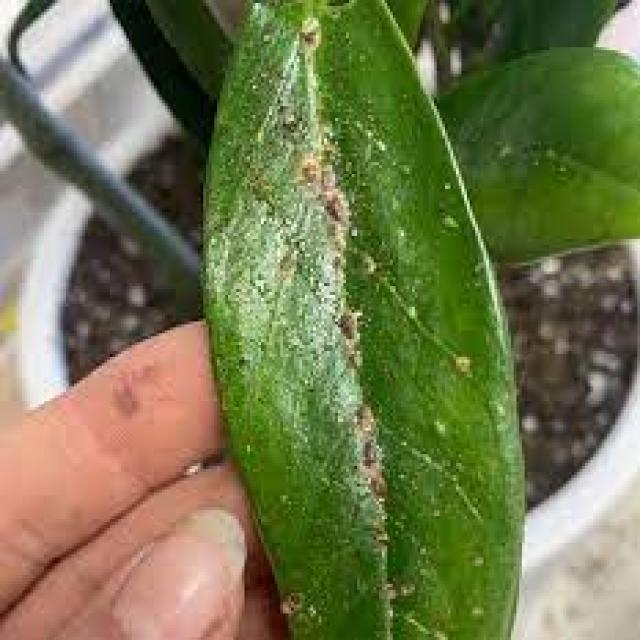scale_insect: (289, 6, 324, 56), (316, 186, 354, 227), (349, 396, 379, 440), (332, 304, 366, 339), (294, 150, 321, 192), (272, 584, 305, 616), (270, 242, 300, 277), (352, 434, 384, 466), (313, 153, 338, 192), (448, 345, 478, 375), (371, 572, 398, 605), (365, 466, 390, 501), (324, 245, 349, 274), (341, 342, 365, 372)
